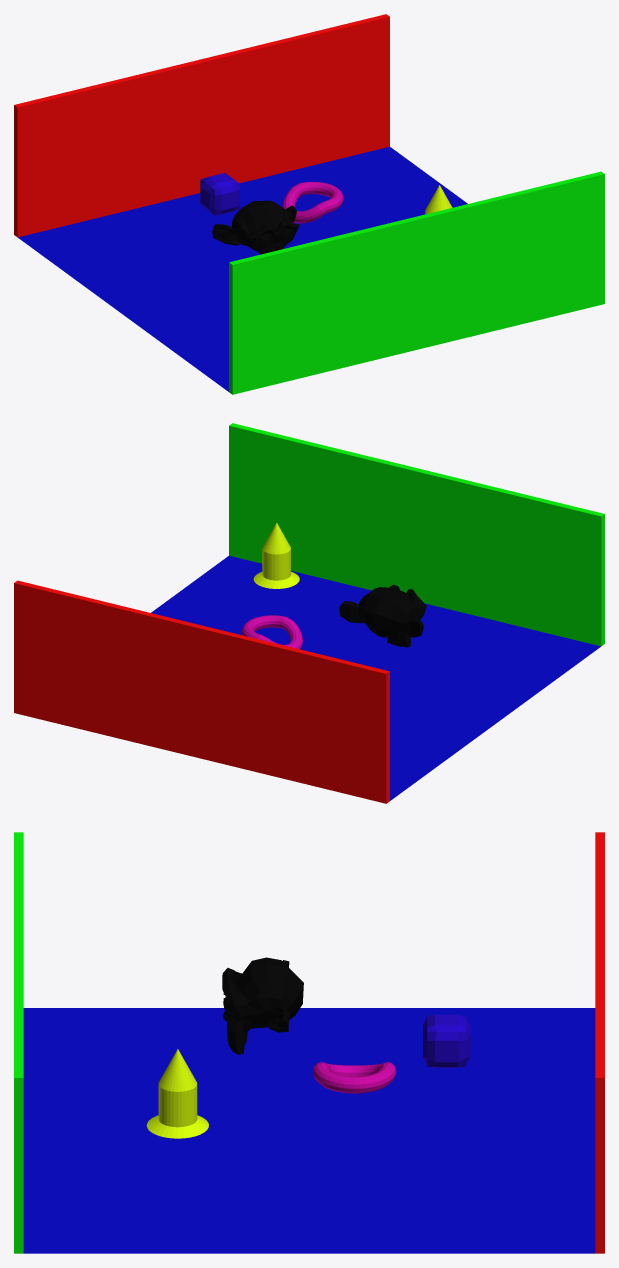
File: scena.obj
The picture shows the model from 3 angles, top to bottom: view 1: azimuth 30°, elevation 25°; view 2: azimuth 150°, elevation 25°; view 3: azimuth 270°, elevation 25°; orthographic projection. The views are drawn at different scales.
Visible parts, largest first — view 1: Cube, Cube.001, Plane, Jakub_Skapik, Torus, Cube.002; view 2: Cube.001, Cube, Plane, Jakub_Skapik, Cone, Torus; view 3: Plane, Jakub_Skapik, Cube, Cube.001, Cone, Cube.002, Torus.
Boxes of the visible parts, box(x1,y1,x2,y2) form: Cube: box(229, 171, 604, 394); Cube.001: box(14, 14, 389, 237); Plane: box(18, 146, 467, 391); Jakub_Skapik: box(212, 200, 299, 254); Torus: box(282, 182, 343, 223); Cube.002: box(200, 173, 239, 215); Cube.001: box(14, 580, 389, 803); Cube: box(229, 423, 604, 646); Plane: box(151, 555, 600, 800); Jakub_Skapik: box(339, 584, 426, 647); Cone: box(253, 523, 299, 588); Torus: box(242, 615, 302, 649); Plane: box(23, 1008, 595, 1253); Jakub_Skapik: box(222, 957, 303, 1054); Cube: box(14, 832, 23, 1253); Cube.001: box(595, 832, 604, 1253); Cone: box(146, 1049, 208, 1138); Cube.002: box(423, 1014, 470, 1067); Torus: box(313, 1062, 396, 1093).
Size of the model in its own units: 30 by 10 by 30.5.
